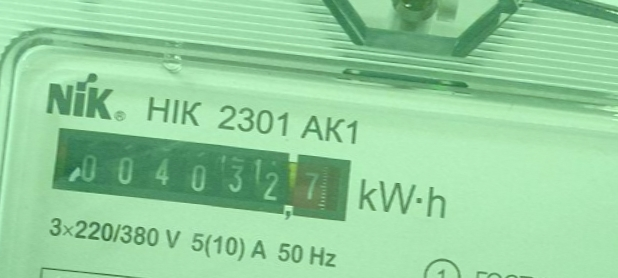0: (115, 151, 138, 185), (79, 147, 101, 182), (189, 158, 211, 192)
2: (262, 165, 283, 201)
3: (227, 159, 248, 193)
4: (152, 151, 175, 189)
7: (303, 166, 323, 201)
screen: (42, 116, 363, 232)
